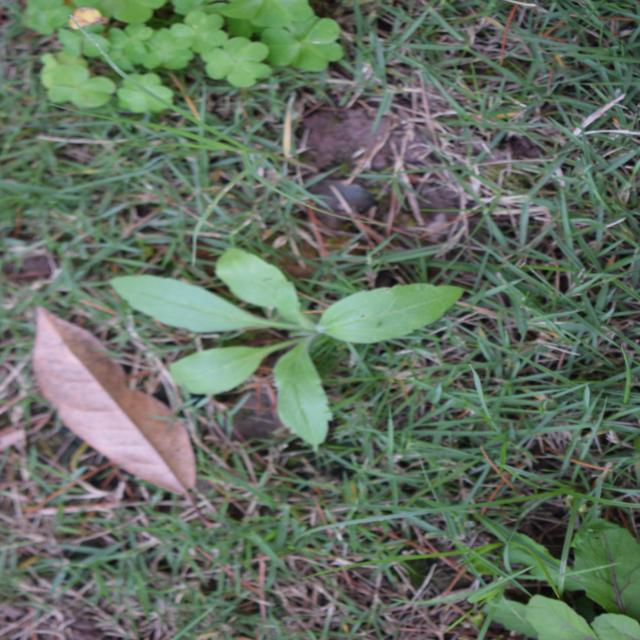horseweed: (212, 132, 404, 432)
